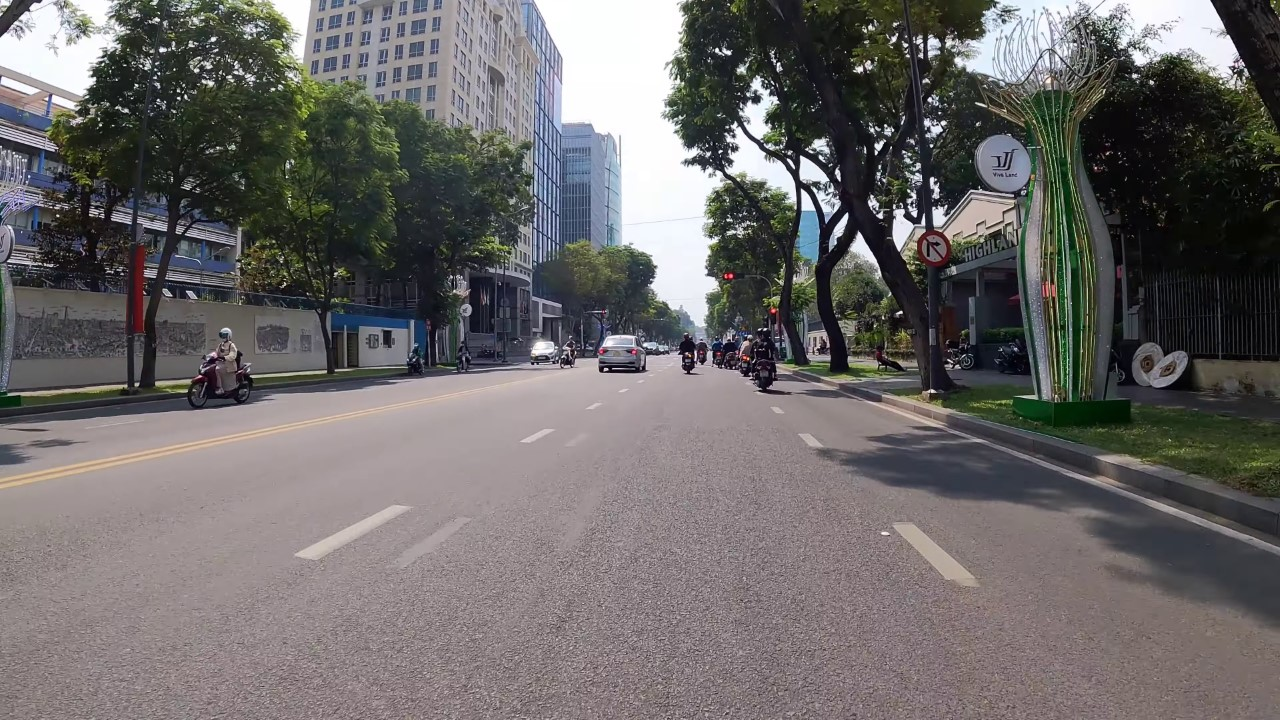cam_re_phai: (914, 229, 953, 270)
